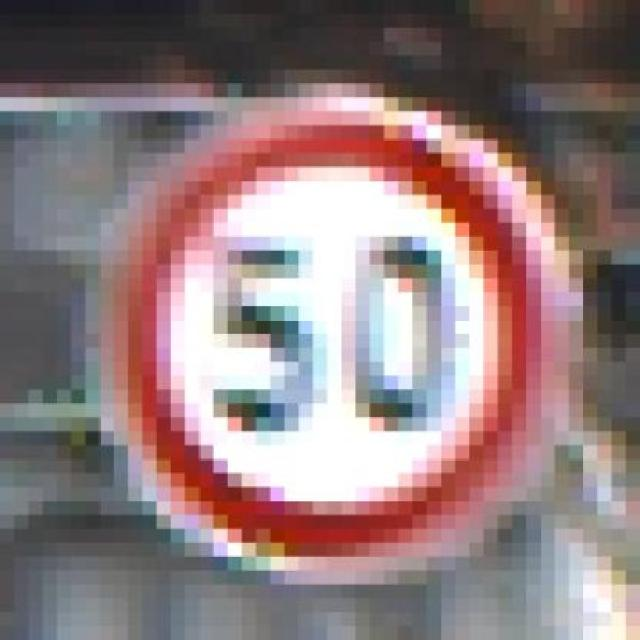forb_speed_over_50: (117, 113, 551, 569)
